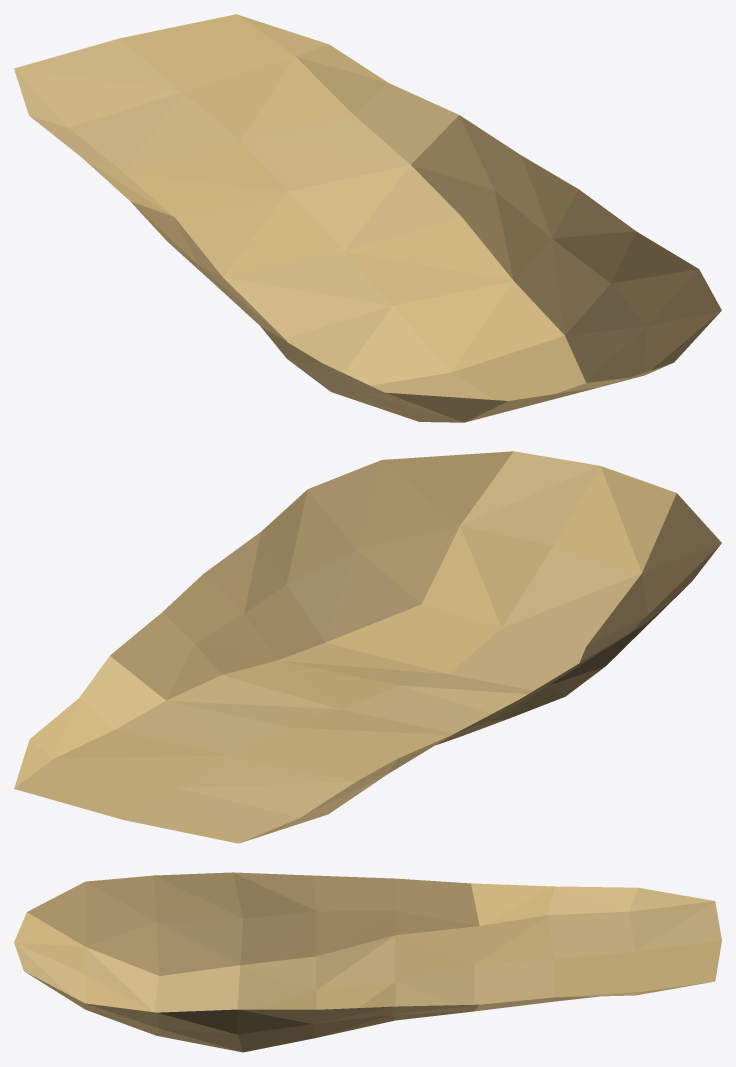
Rendered from drmpg.obj.
The picture shows the model from 3 angles, top to bottom: view 1: azimuth 30°, elevation 25°; view 2: azimuth 150°, elevation 25°; view 3: azimuth 270°, elevation 25°; orthographic projection. The views are drawn at different scales.
Size of the model in its own units: 2300 by 545 by 4909.
